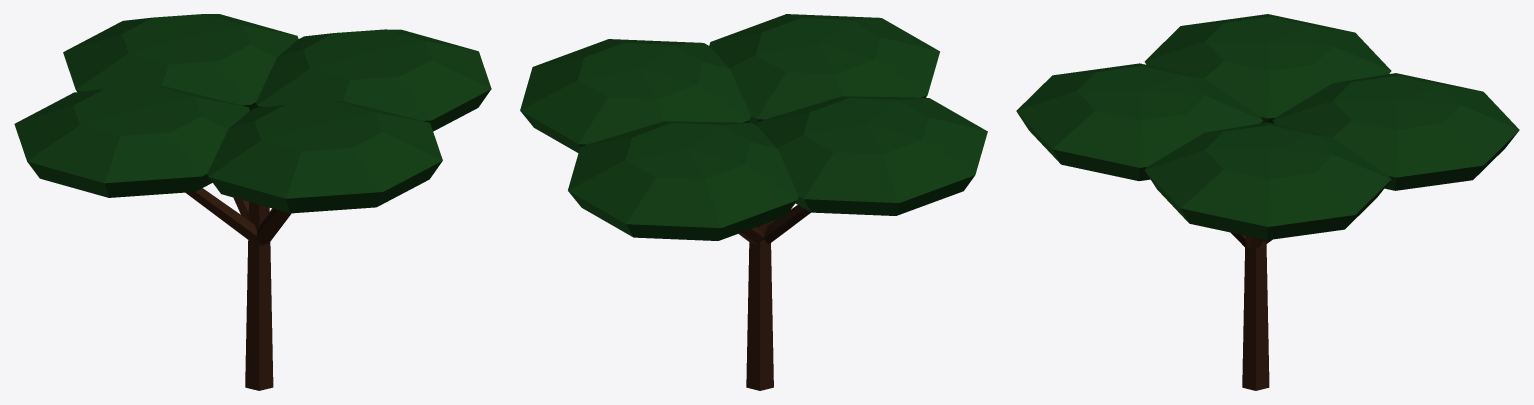
Rendered from AcaciaTree.fbx.
The picture shows the model from 3 angles, left to right: view 1: azimuth 30°, elevation 25°; view 2: azimuth 150°, elevation 25°; view 3: azimuth 270°, elevation 25°; orthographic projection. The views are drawn at different scales.
Parts seen in each view (by area): view 1: AcaciaTree; view 2: AcaciaTree; view 3: AcaciaTree.
Boxes of the visible parts, x1=… form: AcaciaTree: x1=14, y1=14, x2=491, y2=390; AcaciaTree: x1=520, y1=14, x2=987, y2=390; AcaciaTree: x1=1016, y1=14, x2=1519, y2=390.
Size of the model in its own units: 550 by 354 by 550.
1 material, 1 textured.
